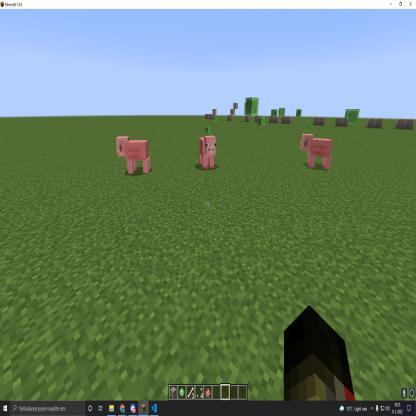pig: (114, 130, 157, 181), (298, 130, 335, 178), (198, 134, 218, 172)
